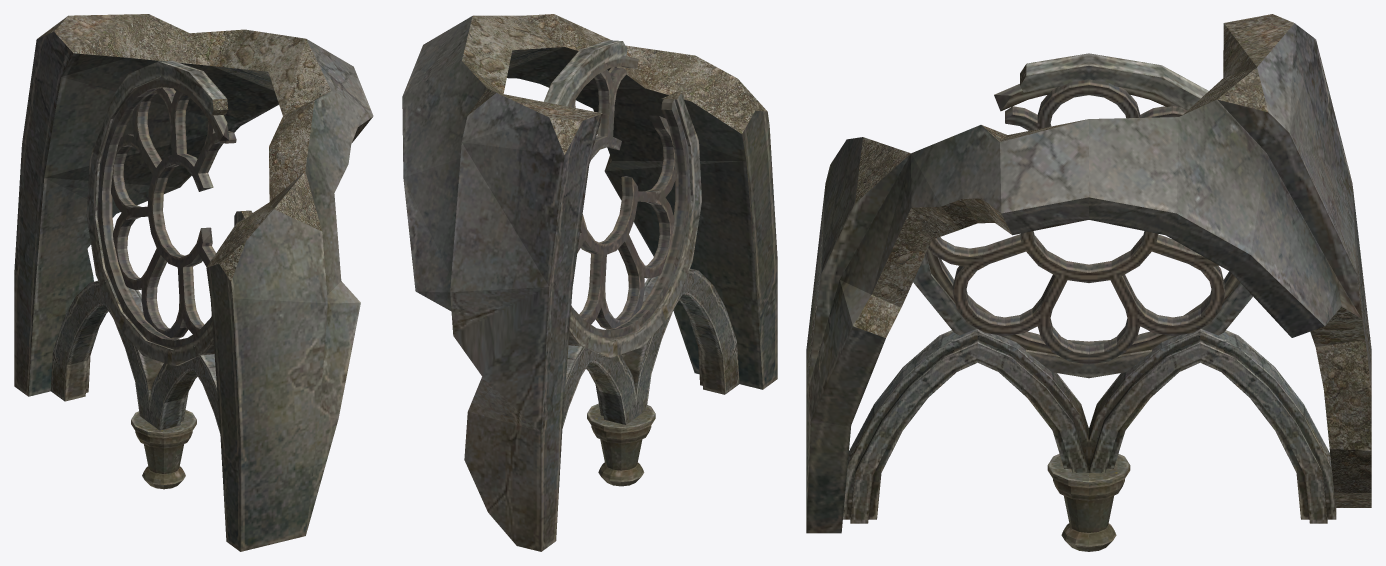
Rendered from bg_lut_lutomb_structure05a_sm_old.FBX.
3 renders of one model, left to right at view 1: azimuth 30°, elevation 25°; view 2: azimuth 150°, elevation 25°; view 3: azimuth 270°, elevation 25°, orthographic. The views are drawn at different scales.
Parts seen in each view (by area): view 1: bg_lut_lutomb_structure05a_sm_old; view 2: bg_lut_lutomb_structure05a_sm_old; view 3: bg_lut_lutomb_structure05a_sm_old.
Part boxes in pixels (<box>): bg_lut_lutomb_structure05a_sm_old: <box>14,14,373,551</box>; bg_lut_lutomb_structure05a_sm_old: <box>402,14,777,551</box>; bg_lut_lutomb_structure05a_sm_old: <box>806,14,1371,551</box>.
Size of the model in its own units: 111 by 192 by 192.
